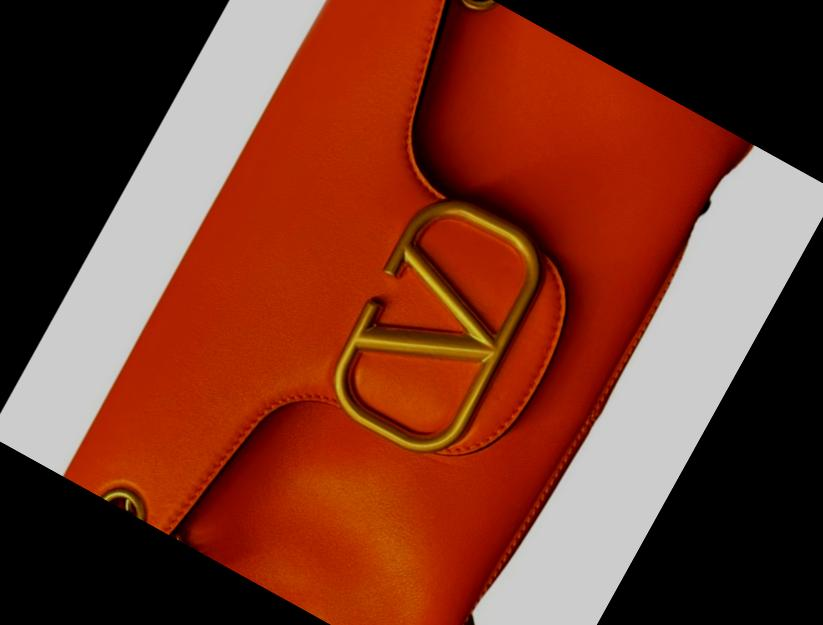VALENTINO: (310, 177, 565, 470)
